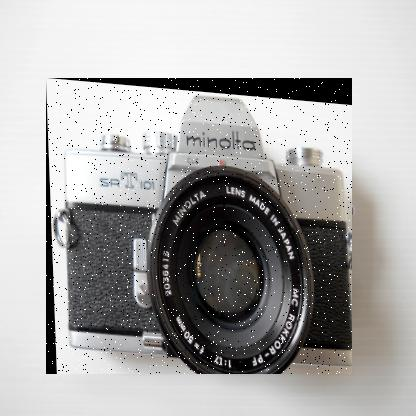Camera: (47, 79, 354, 376)
